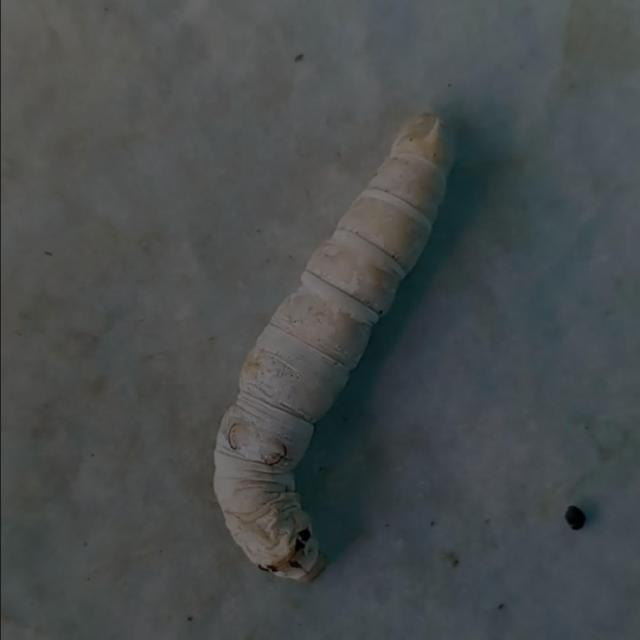Grasserie: (195, 89, 458, 600)
